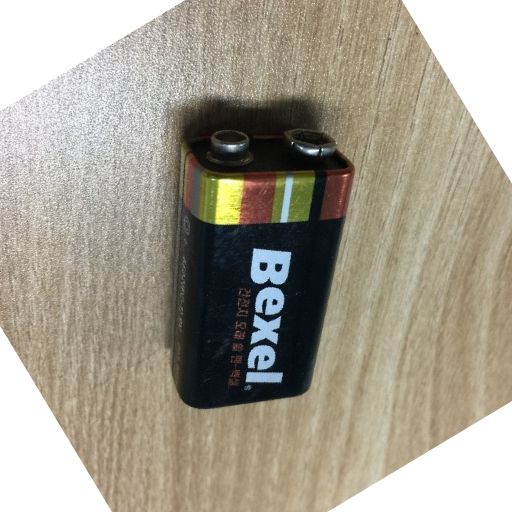Battery_3: (161, 104, 359, 422)
